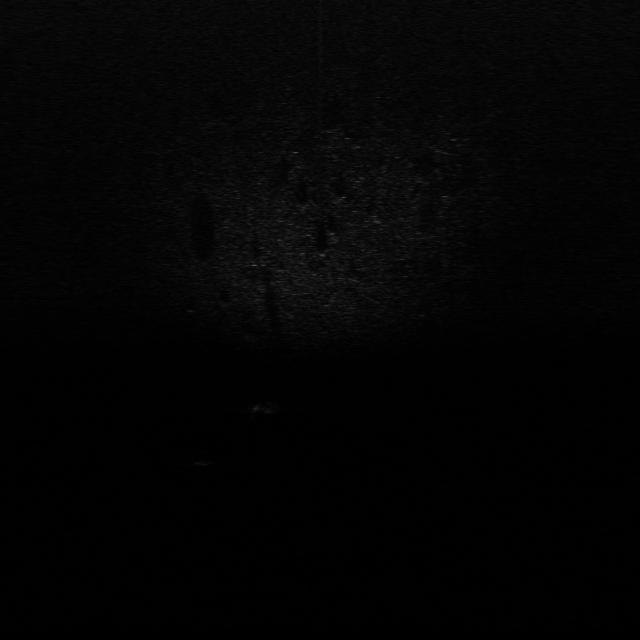ball: (242, 397, 287, 420)
human body: (190, 451, 214, 467)
